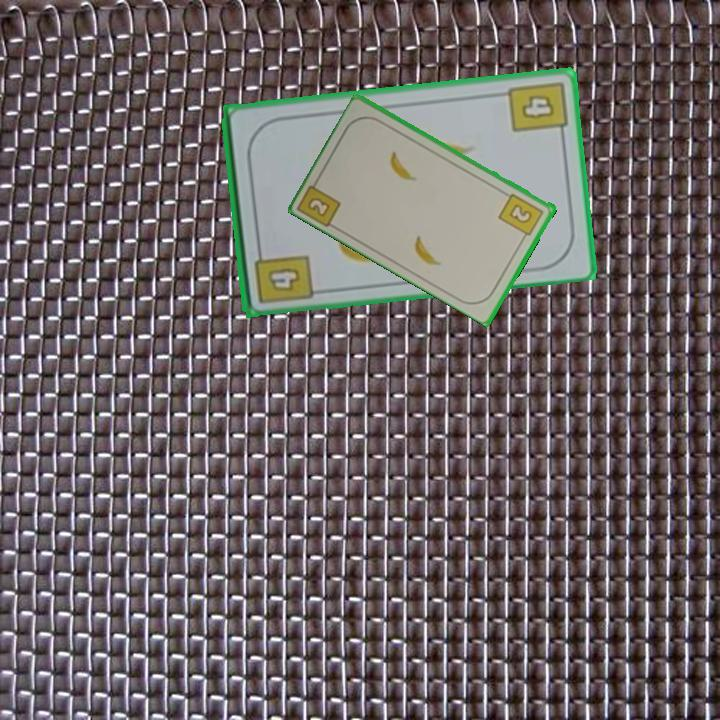2b: (495, 189, 547, 243), (296, 173, 344, 229)
4b: (250, 242, 315, 307), (505, 77, 570, 141)
